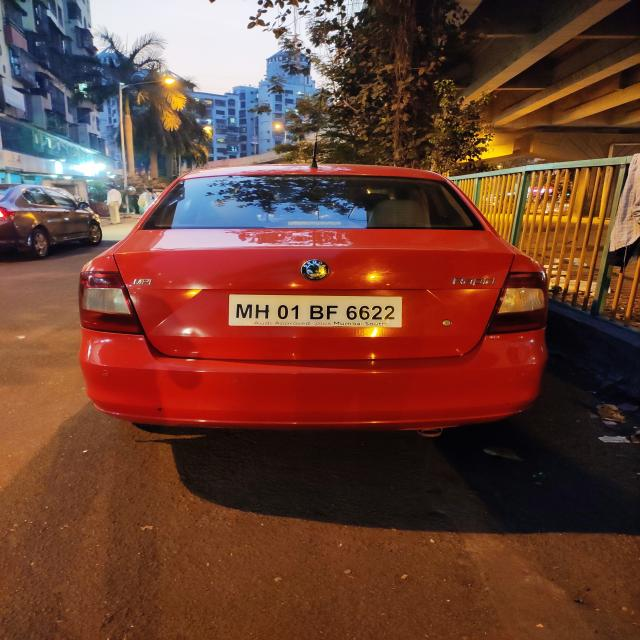Number-Plate: (229, 294, 400, 327)
